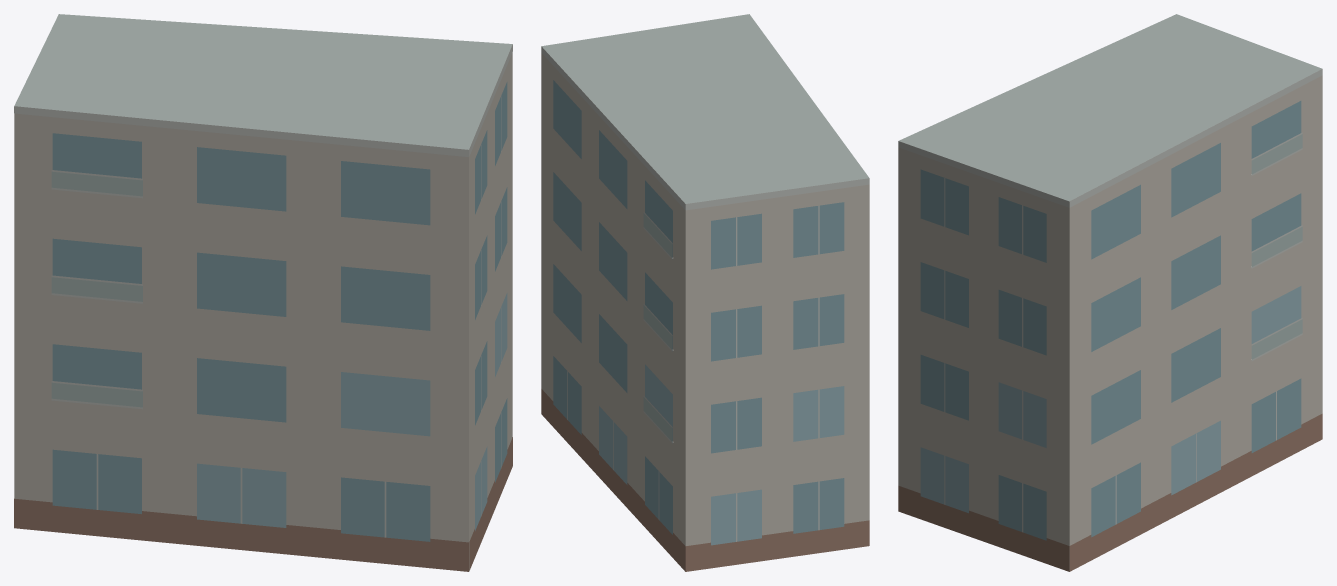
File: survey-upis-32492221.glb
3 views of the same model, side by side, from view 1: azimuth 30°, elevation 25°; view 2: azimuth 150°, elevation 25°; view 3: azimuth 270°, elevation 25° (orthographic). The views are drawn at different scales.
Visible parts, largest first — view 1: survey-upis-32492221.tmp; view 2: survey-upis-32492221.tmp; view 3: survey-upis-32492221.tmp.
Part boxes in pixels (x1,y1,x2,y2): survey-upis-32492221.tmp: (14, 14, 512, 571); survey-upis-32492221.tmp: (541, 14, 869, 571); survey-upis-32492221.tmp: (898, 14, 1322, 571).
Size of the model in its own units: 15.3 by 14.09 by 14.64.
